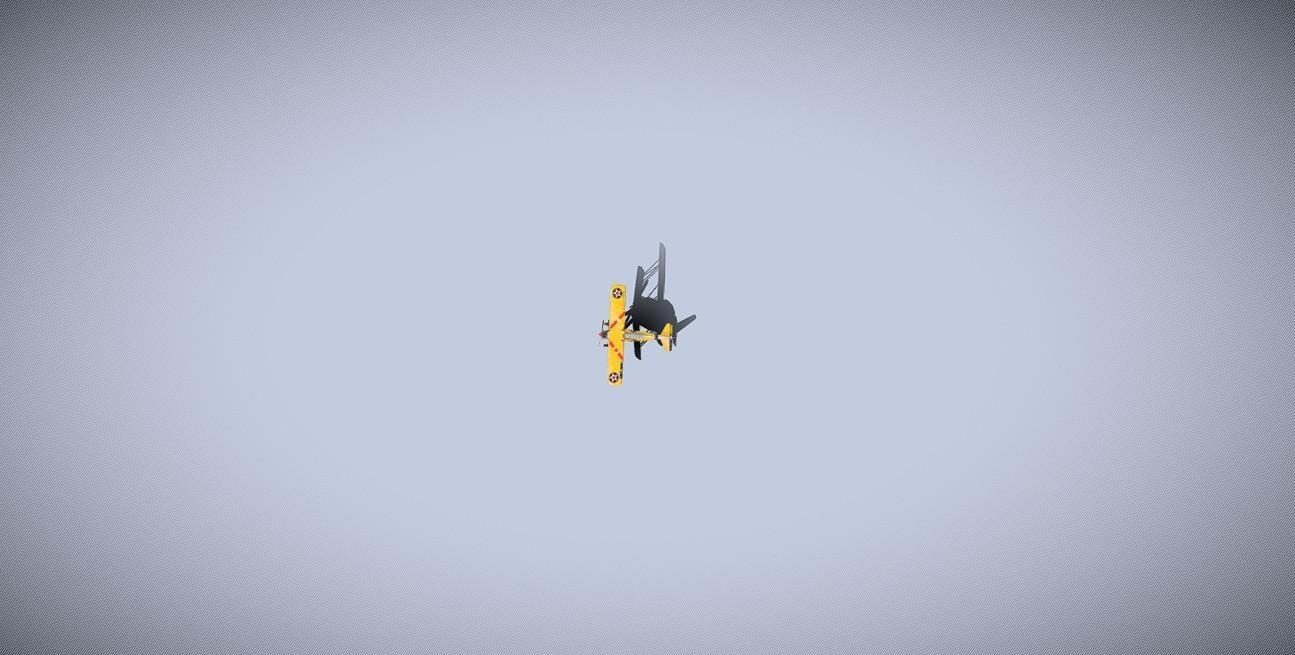Airplane: (599, 240, 697, 385)
